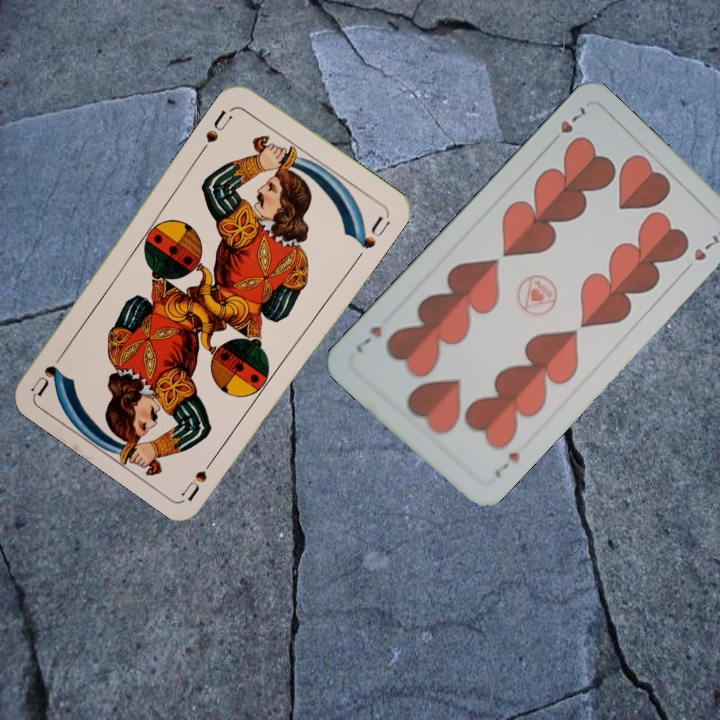H7: (546, 102, 589, 149), (489, 448, 522, 481)
SU: (178, 448, 221, 502), (197, 106, 235, 155)
